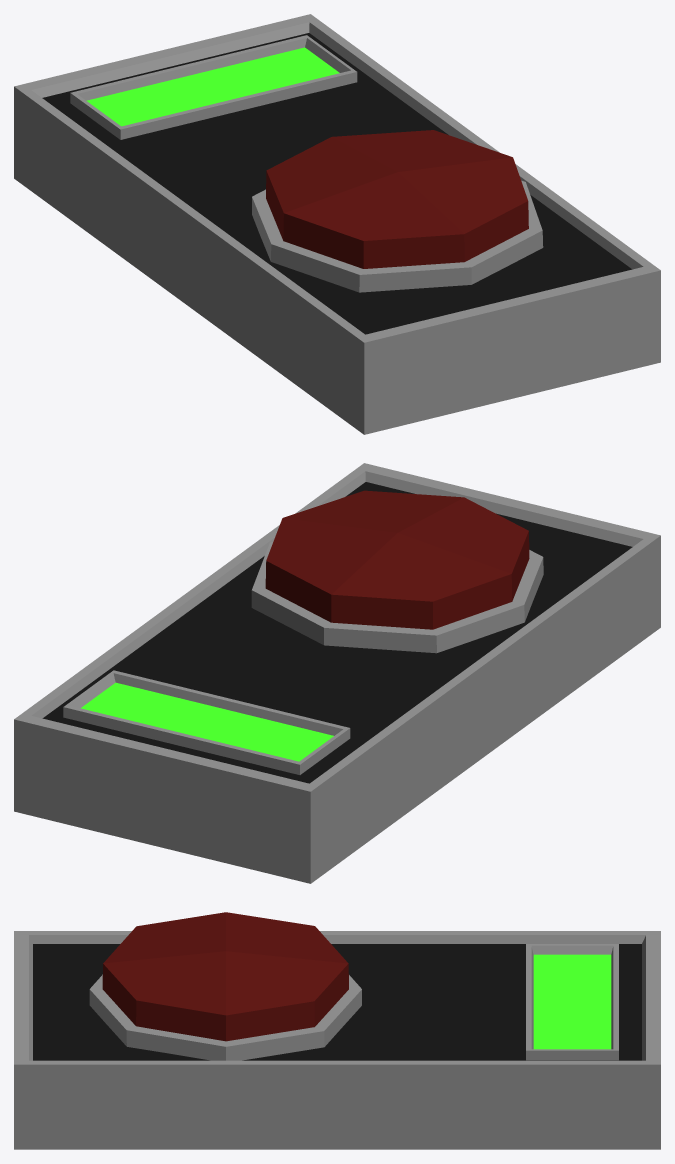
File: PraedatumBasicButtonCanActivate.glb
3 views of the same model, one above another, from view 1: azimuth 30°, elevation 25°; view 2: azimuth 150°, elevation 25°; view 3: azimuth 270°, elevation 25° (orthographic). The views are drawn at different scales.
Parts seen in each view (by area): view 1: MainPart, Button Circle, Indicator; view 2: MainPart, Button Circle, Indicator; view 3: MainPart, Button Circle, Indicator.
Part boxes in pixels (box(x1,y1,x2,y2)): MainPart: box(14, 14, 660, 434); Button Circle: box(252, 130, 543, 292); Indicator: box(70, 35, 357, 139); MainPart: box(14, 463, 660, 883); Button Circle: box(251, 490, 543, 653); Indicator: box(63, 670, 350, 774); MainPart: box(14, 931, 660, 1149); Button Circle: box(89, 912, 361, 1060); Indicator: box(526, 944, 618, 1060).
Size of the model in its own units: 1.33 by 0.6102 by 2.72.
